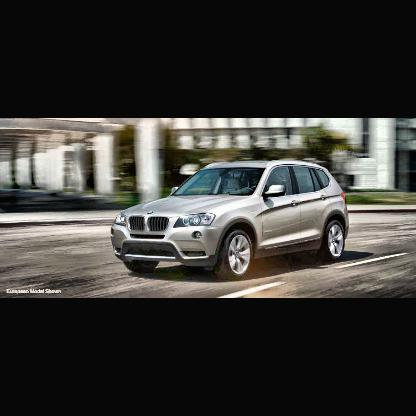BMW X3 SUV 2012: (112, 160, 351, 280)
